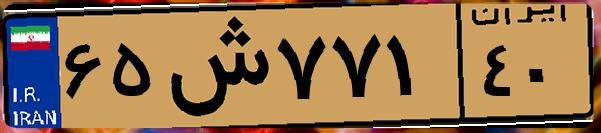0: (525, 38, 570, 115)
1: (385, 28, 445, 110)
4: (475, 38, 525, 113)
5: (110, 28, 158, 98)
6: (57, 26, 110, 100)
7: (270, 28, 330, 110), (330, 28, 385, 110)
ش: (158, 12, 270, 120)
